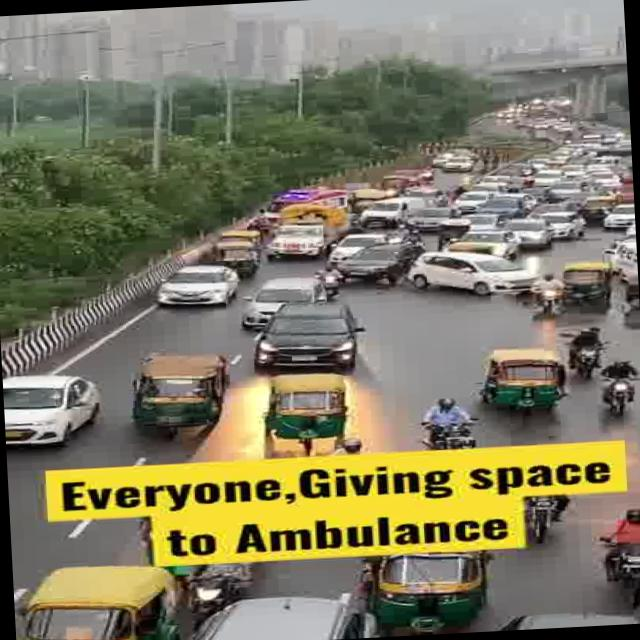ambulance: (258, 184, 348, 225)
